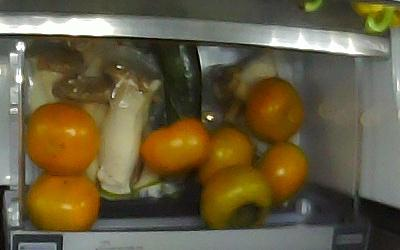persimmon: (25, 102, 97, 174), (201, 165, 272, 228), (25, 171, 99, 230), (139, 118, 209, 180), (247, 77, 305, 142), (201, 127, 261, 187), (254, 144, 310, 203)
